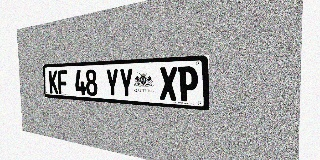4: (75, 70, 86, 95)
8: (85, 69, 98, 96)
F: (57, 70, 68, 94)
K: (49, 70, 58, 94)
P: (178, 66, 198, 102)
X: (159, 67, 178, 101)
Y: (119, 68, 134, 98), (105, 68, 119, 97)
